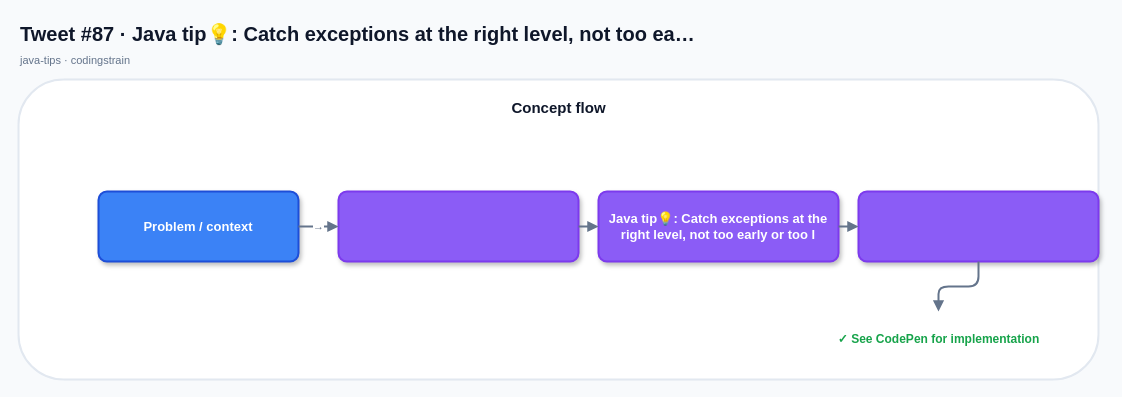
Image size: 1122x397. Some labels were removed from this diagram. Here are the shapes that lost their labels. From the top down, the centre of each, then its label:
At (459,227): "💡 Java tip💡: Catch exceptions at the right level, not too early or too".
At (979,227): "Runnable sample: `java-tips`".
